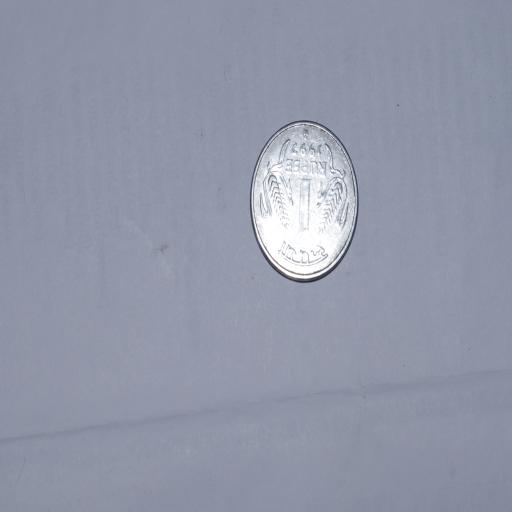rupee1: (249, 118, 356, 284)
